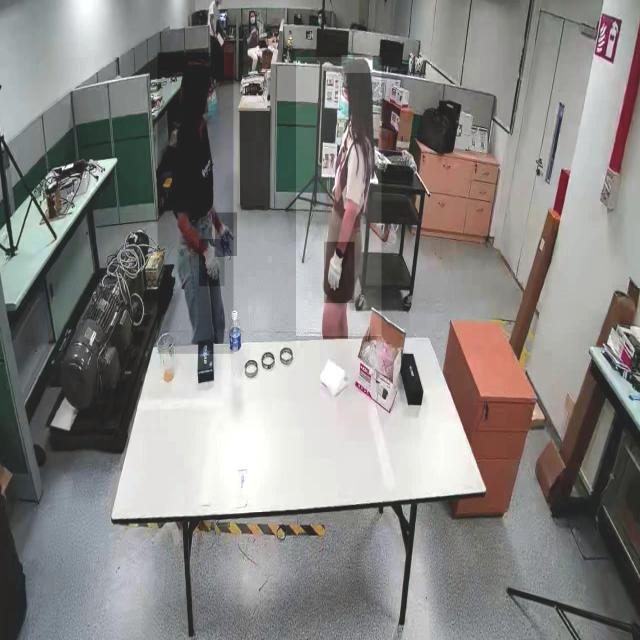face_mask: (335, 89, 359, 131), (199, 84, 219, 124), (249, 11, 257, 33)
hand_glove: (324, 242, 354, 304), (198, 239, 224, 287), (215, 212, 237, 257)
hand_noglove: (250, 26, 256, 34)
head_nohelmet: (182, 56, 213, 77), (341, 55, 373, 74), (250, 9, 256, 12)
person: (296, 57, 382, 337), (157, 53, 233, 354), (243, 10, 261, 76)
